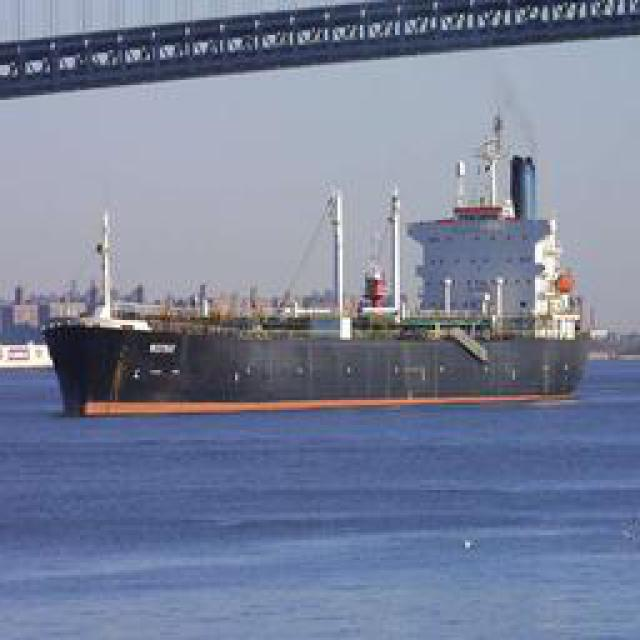Ship: (41, 202, 159, 415)
